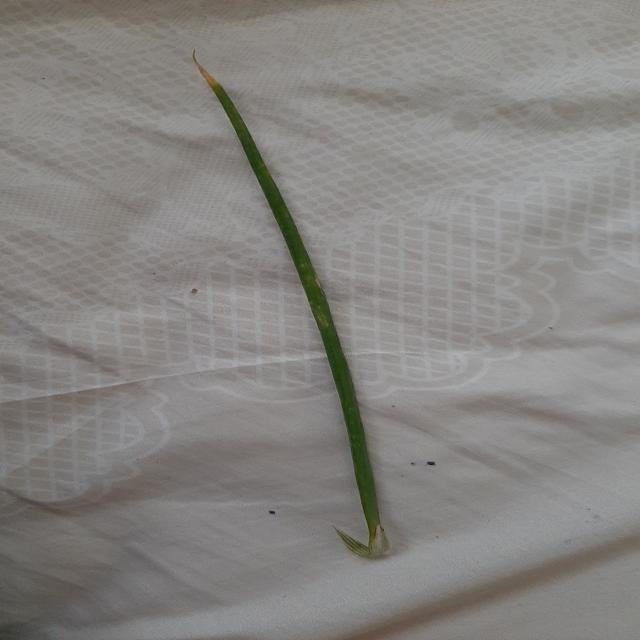onion: (192, 52, 390, 558)
